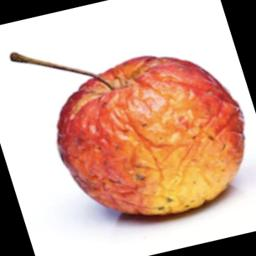Apple Rotten: (30, 35, 256, 256)
